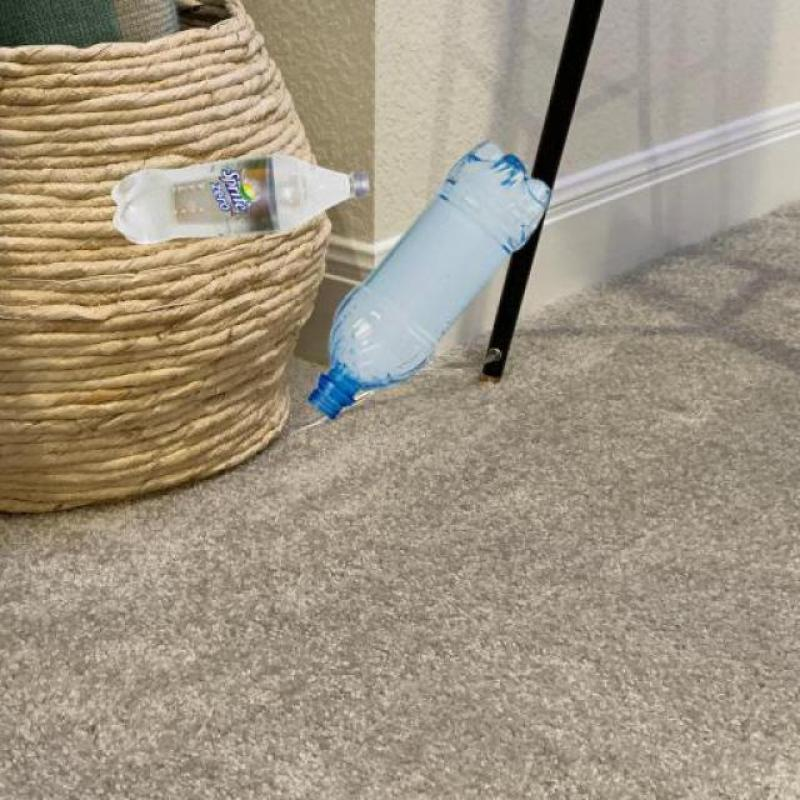botella: (306, 143, 554, 419), (111, 152, 372, 249)
